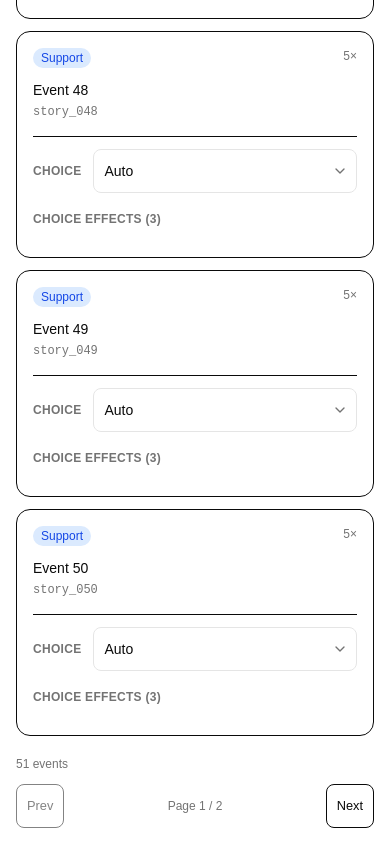
Test: Events page › keeps pagination and save reachable alongside the card presentation
The width and height of the screenshot is (390, 844).
(page scrolled)
Expected: the button "Prev" is disabled, [16,784,64,828]
Click the button "Next": (350, 806) [326,784,374,828]
(page scrolled)
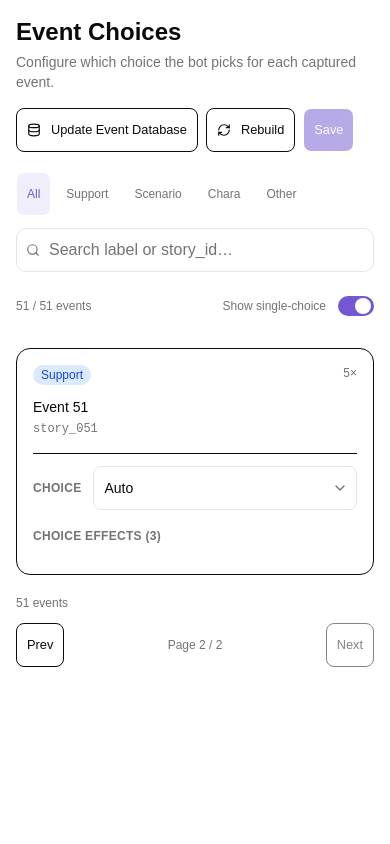
Expected: the element with test id "event-card-story_051" is shown, [16,348,374,575]
